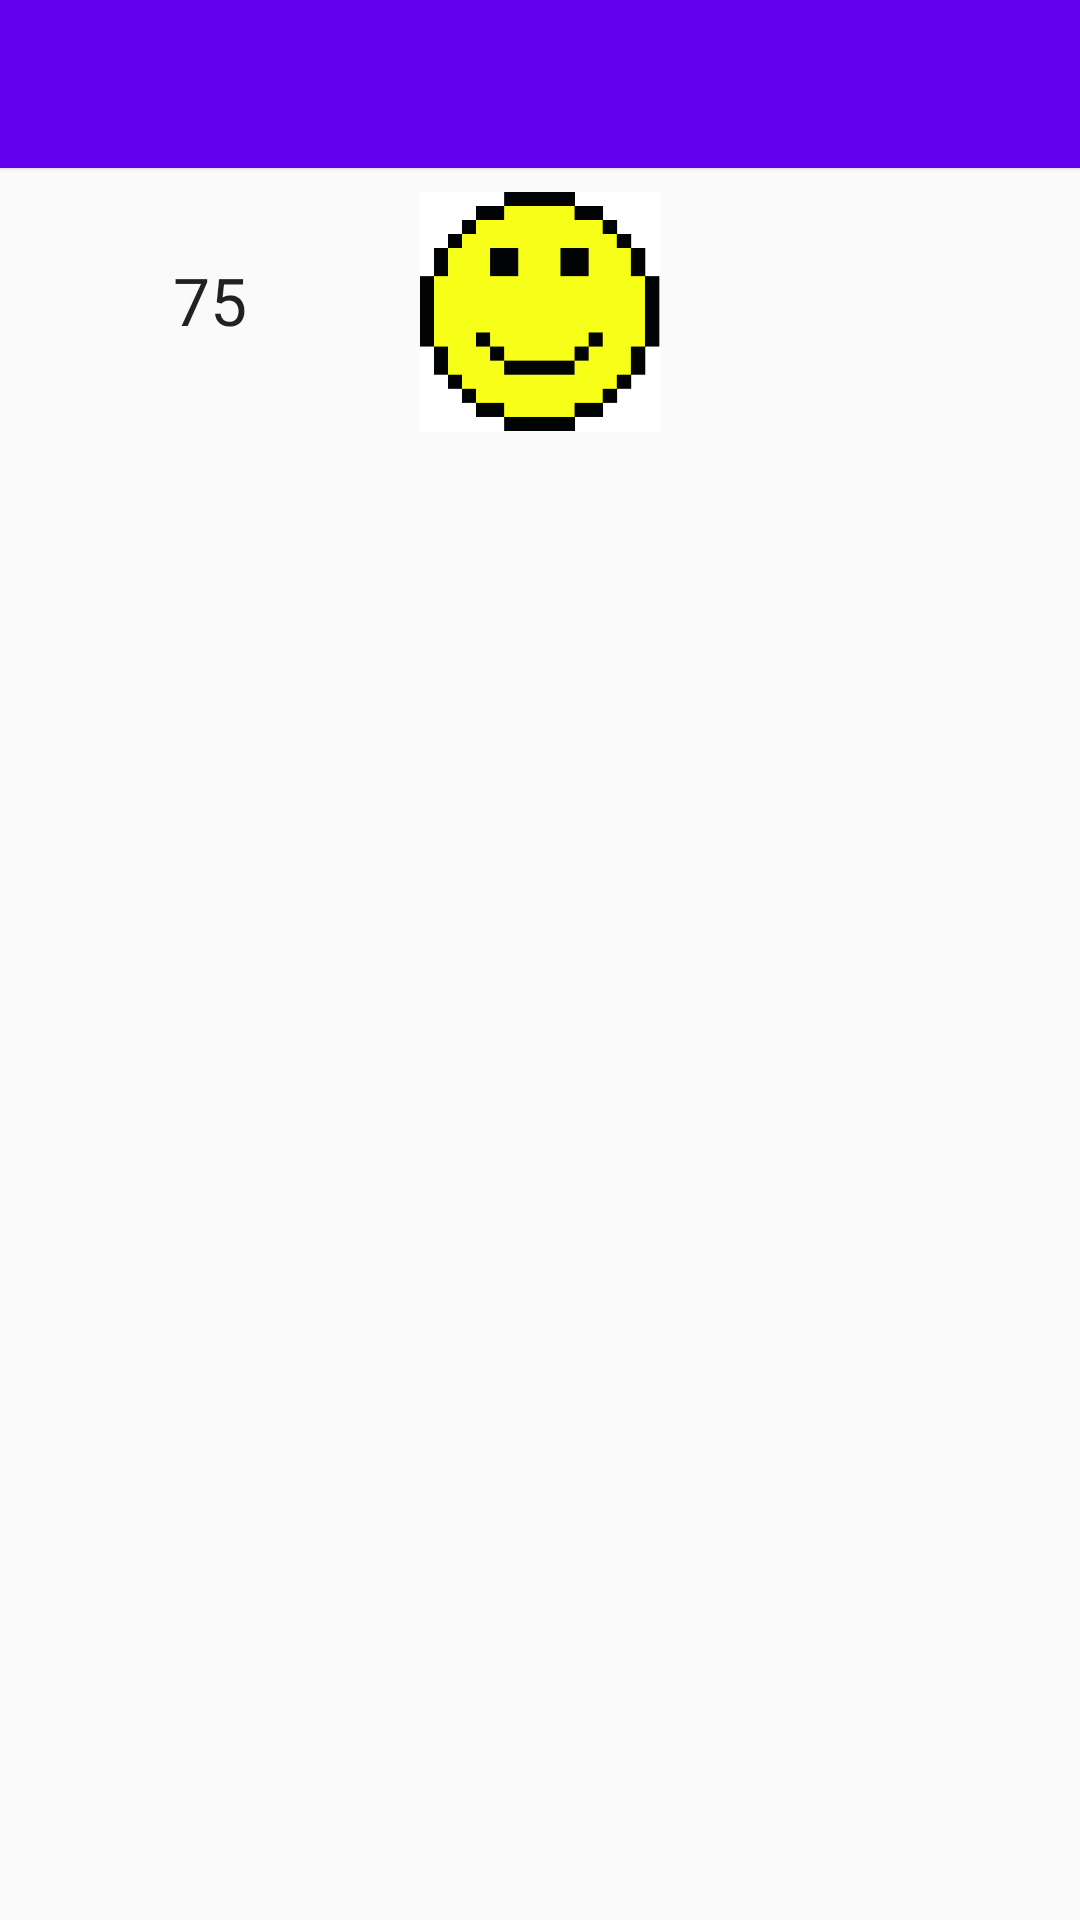

Locate icon controls on the screen. Image size 1080px x 1920px, boxes as (x1, y1, x2, y2).
msface: (420, 192, 660, 431)
